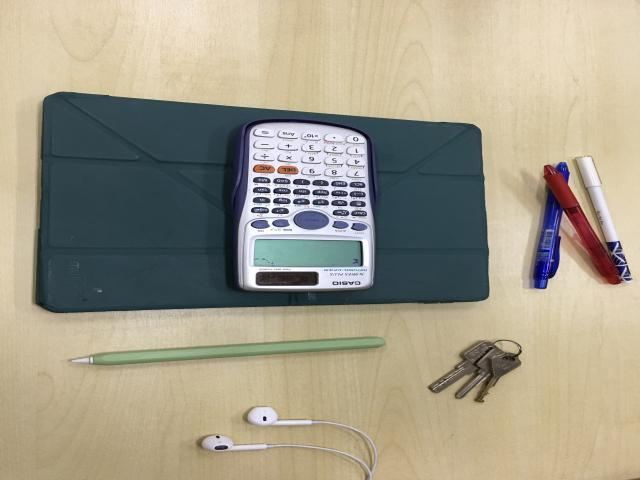Keys: (429, 335, 528, 404)
Pen: (530, 153, 640, 296)
wire: (187, 394, 400, 480)
